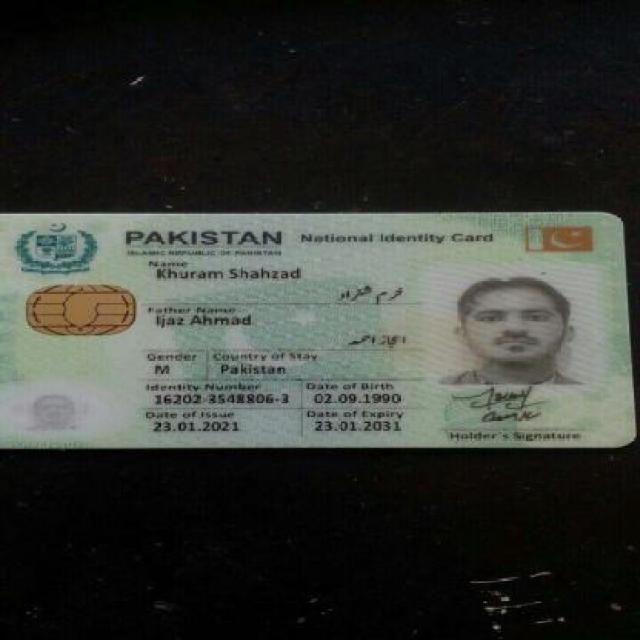Front: (2, 205, 630, 449)
